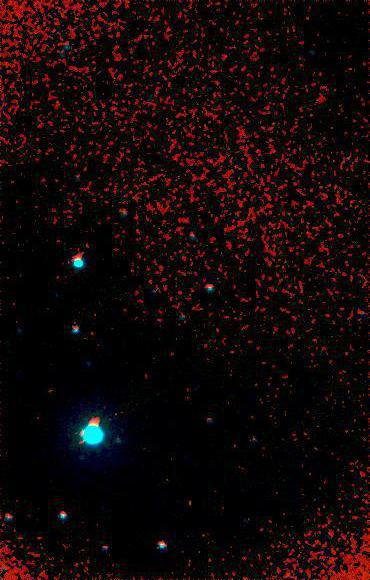star: (172, 488, 202, 518)
